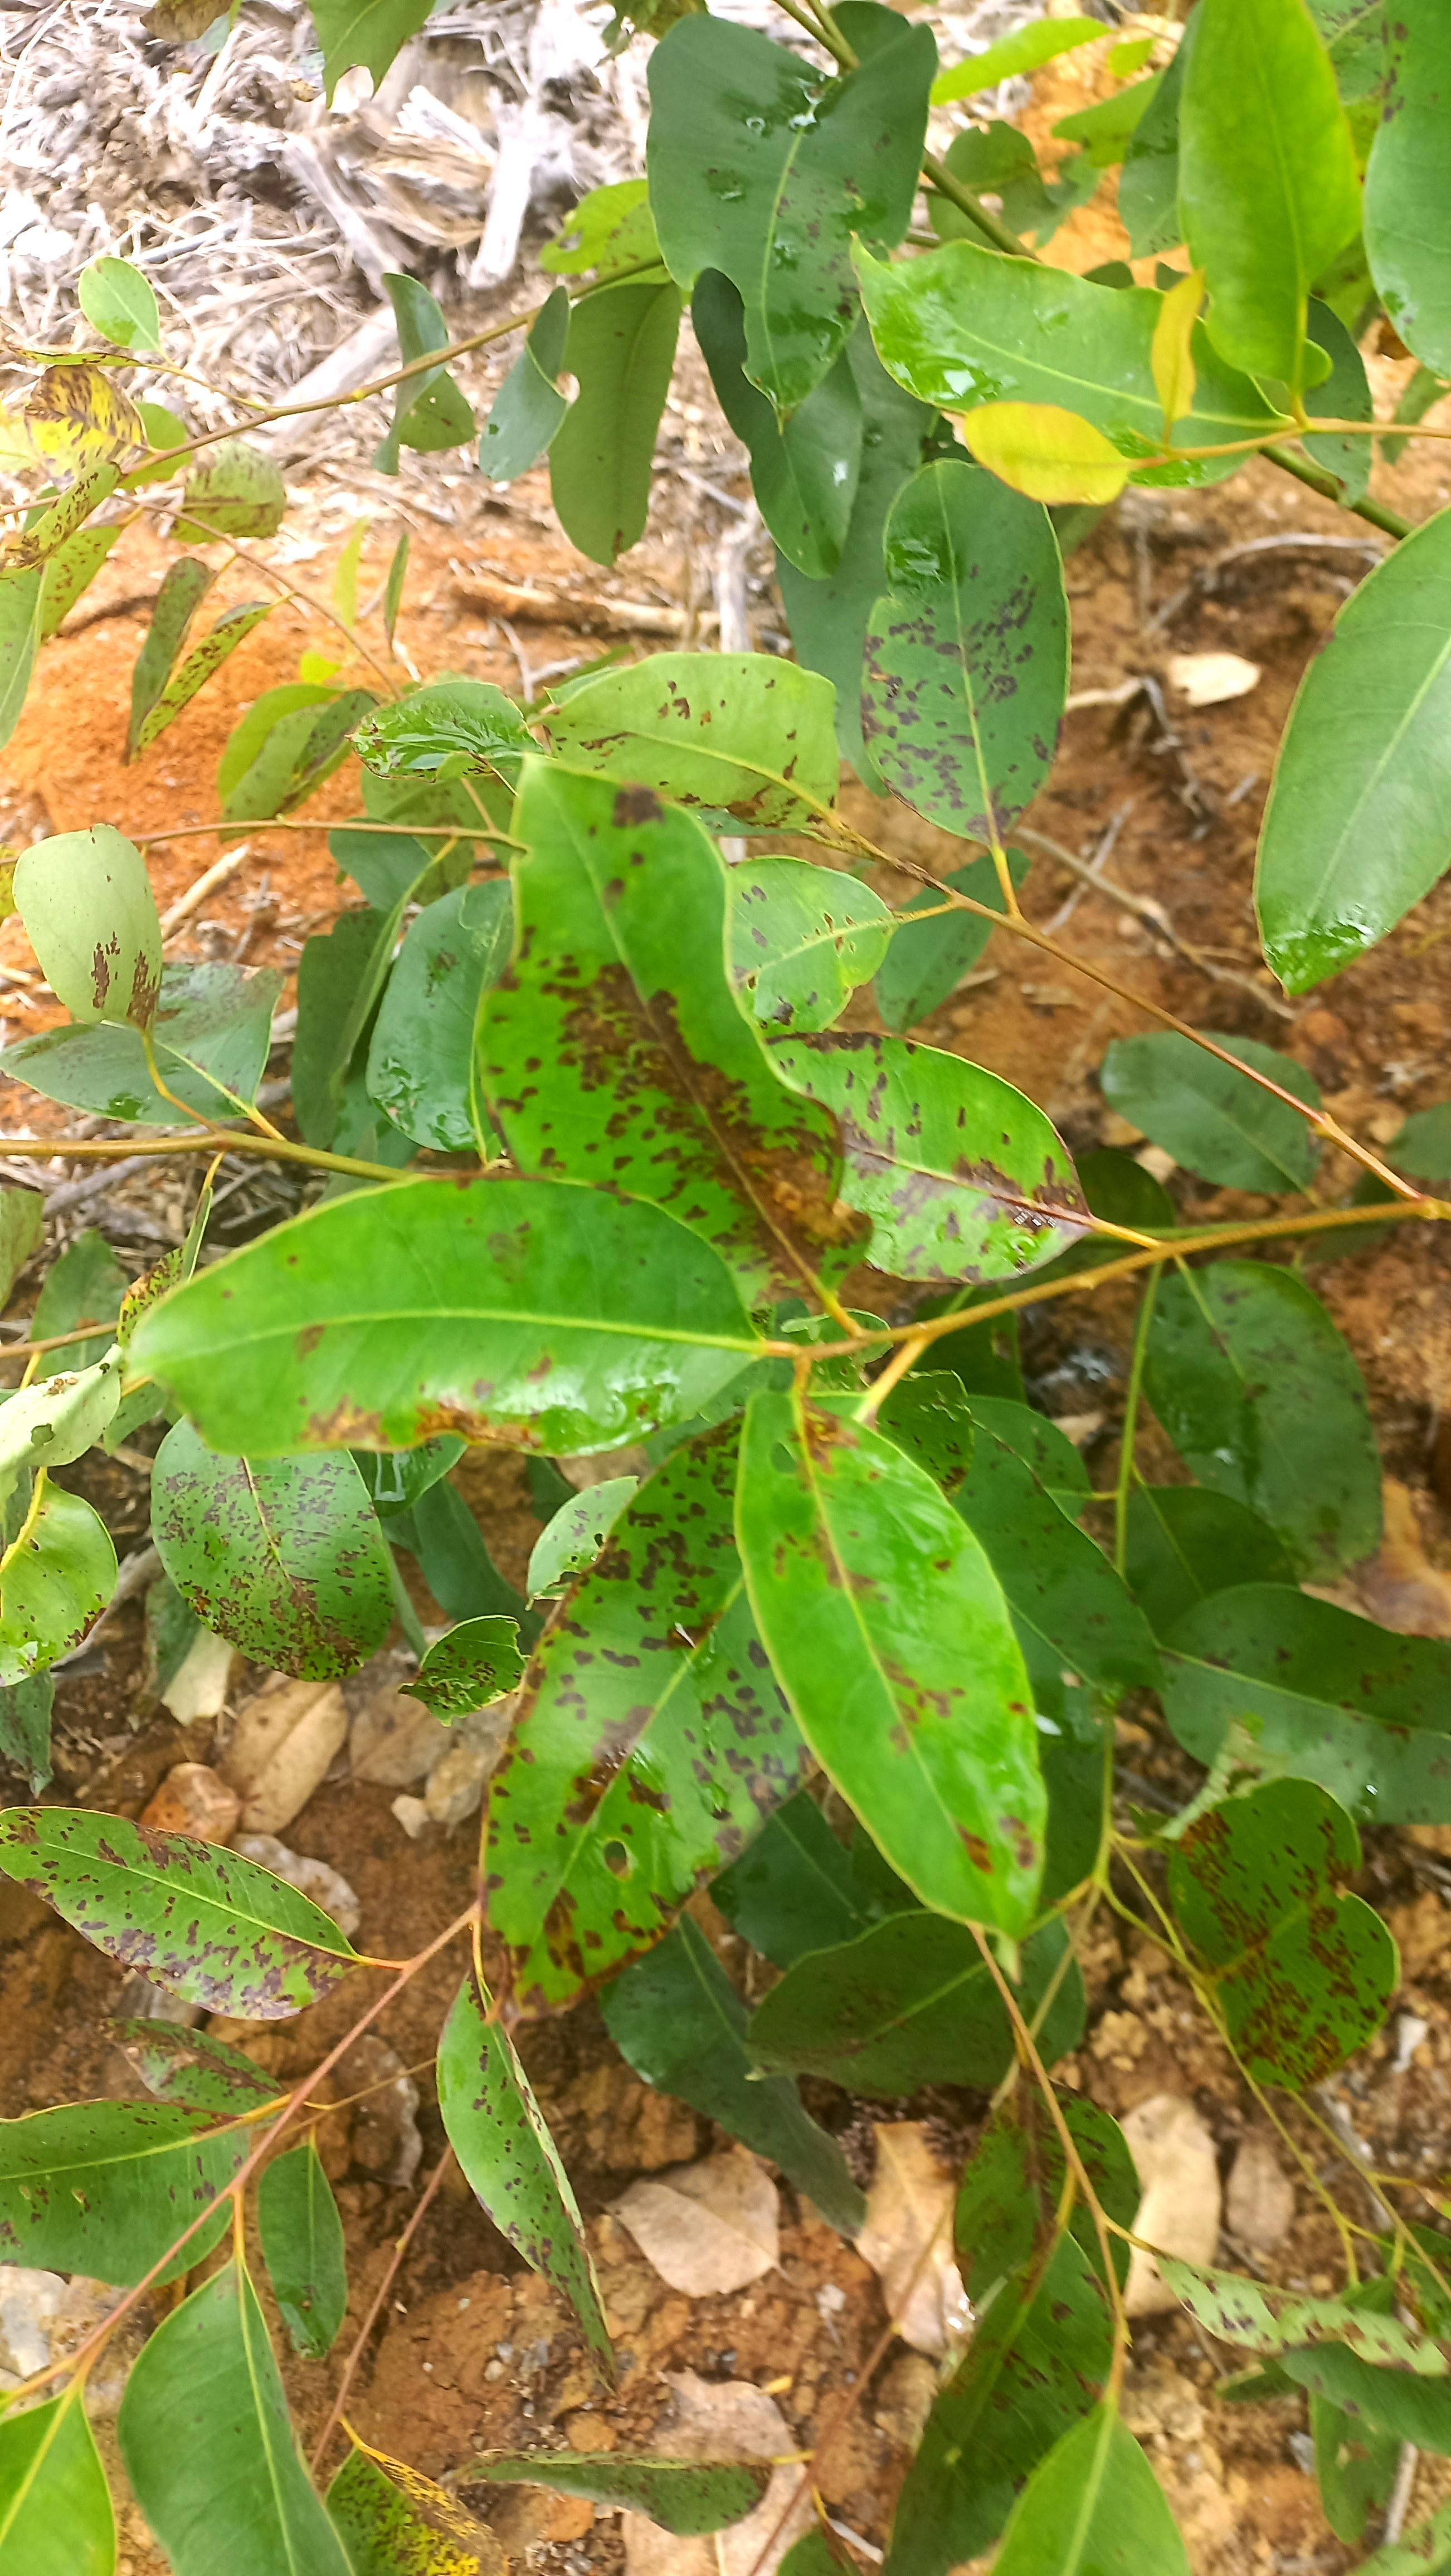Xanthomonas: (497, 748, 853, 1302), (749, 1405, 1049, 1934), (1166, 1762, 1428, 2121), (867, 478, 1099, 847), (2, 1801, 340, 2013), (862, 1047, 1099, 1283), (0, 2125, 269, 2279), (113, 591, 313, 727), (34, 352, 134, 464)
